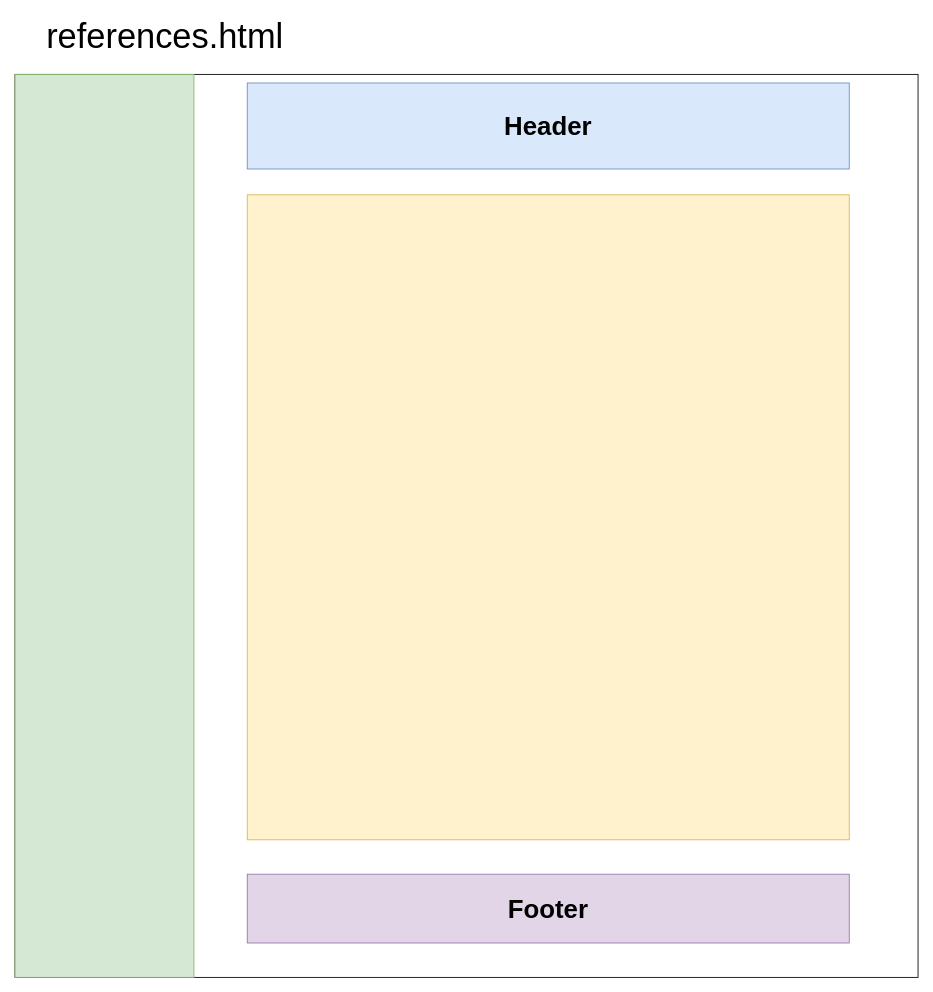
Some shapes in this 933 by 992 pixel diagram are drawn without their labels. The shapes that lost their labels are listed below. From the top down, each one's centre as x and y in pixels, then its label:
the point at 104,525: Side Navbar
the point at 547,517: Main
